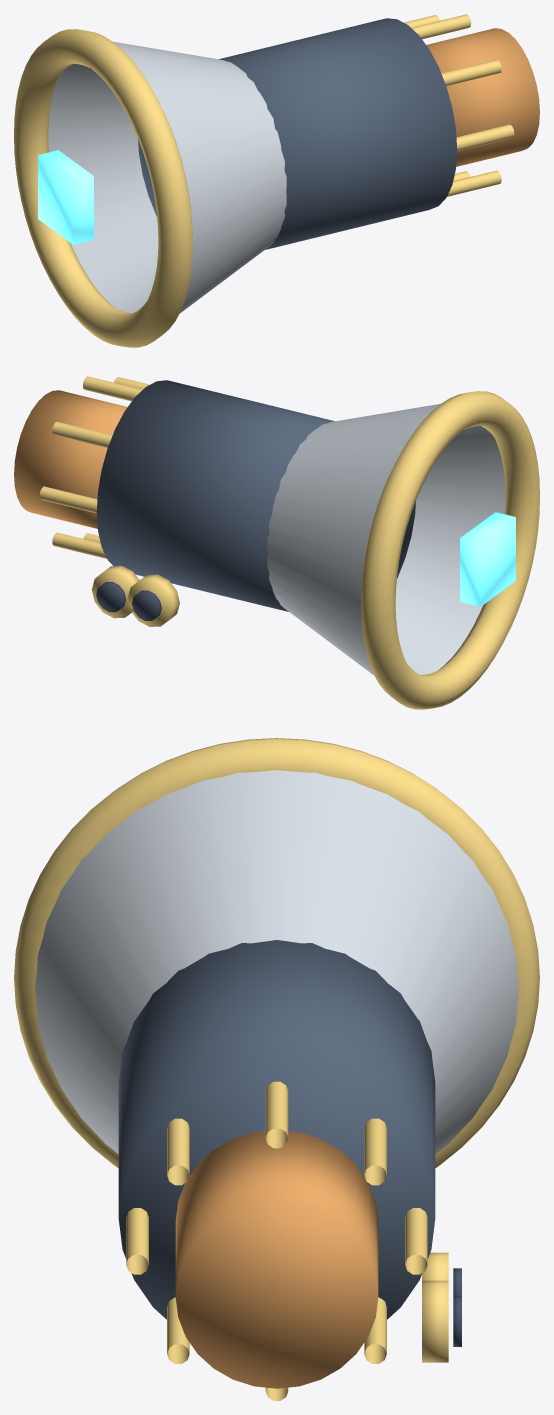
The model's file is L85_28_RCSPlusZThruster_Fitted.fbx.
3 renders of one model, top to bottom at view 1: azimuth 30°, elevation 25°; view 2: azimuth 150°, elevation 25°; view 3: azimuth 270°, elevation 25°, orthographic. The views are drawn at different scales.
Parts seen in each view (by area): view 1: L85_RCSPlusZThruster_Static__tintA8B8C7, L85_RCSPlusZThruster_Static__tint1A2434, L85_RCSPlusZThruster_Static__tintF7B83D, L85_RCSPlusZThruster_Static__tintD16621, L85_RCSPlusZThruster_ANIM_RCS_PLUS_Z__tint2ED9FA; view 2: L85_RCSPlusZThruster_Static__tintA8B8C7, L85_RCSPlusZThruster_Static__tint1A2434, L85_RCSPlusZThruster_Static__tintF7B83D, L85_RCSPlusZThruster_Static__tintD16621, L85_RCSPlusZThruster_ANIM_RCS_PLUS_Z__tint2ED9FA, L85_RCSPlusZThruster_Static__tint111724; view 3: L85_RCSPlusZThruster_Static__tintA8B8C7, L85_RCSPlusZThruster_Static__tint1A2434, L85_RCSPlusZThruster_Static__tintD16621, L85_RCSPlusZThruster_Static__tintF7B83D.
Part boxes in pixels (x1,y1,x2,y2): L85_RCSPlusZThruster_Static__tintA8B8C7: (48, 41, 286, 313); L85_RCSPlusZThruster_Static__tint1A2434: (138, 18, 457, 249); L85_RCSPlusZThruster_Static__tintF7B83D: (14, 14, 514, 347); L85_RCSPlusZThruster_Static__tintD16621: (426, 28, 539, 166); L85_RCSPlusZThruster_ANIM_RCS_PLUS_Z__tint2ED9FA: (38, 150, 93, 244); L85_RCSPlusZThruster_Static__tintA8B8C7: (267, 403, 505, 675); L85_RCSPlusZThruster_Static__tint1A2434: (96, 380, 415, 611); L85_RCSPlusZThruster_Static__tintF7B83D: (39, 376, 539, 709); L85_RCSPlusZThruster_Static__tintD16621: (14, 390, 127, 528); L85_RCSPlusZThruster_ANIM_RCS_PLUS_Z__tint2ED9FA: (460, 512, 515, 606); L85_RCSPlusZThruster_Static__tint111724: (96, 582, 161, 620); L85_RCSPlusZThruster_Static__tintA8B8C7: (35, 770, 518, 1153); L85_RCSPlusZThruster_Static__tint1A2434: (118, 940, 435, 1319); L85_RCSPlusZThruster_Static__tintD16621: (175, 1131, 378, 1388); L85_RCSPlusZThruster_Static__tintF7B83D: (14, 738, 539, 1400).
Bounding box in the file's own units: 12.77 × 7.97 × 7.97.
